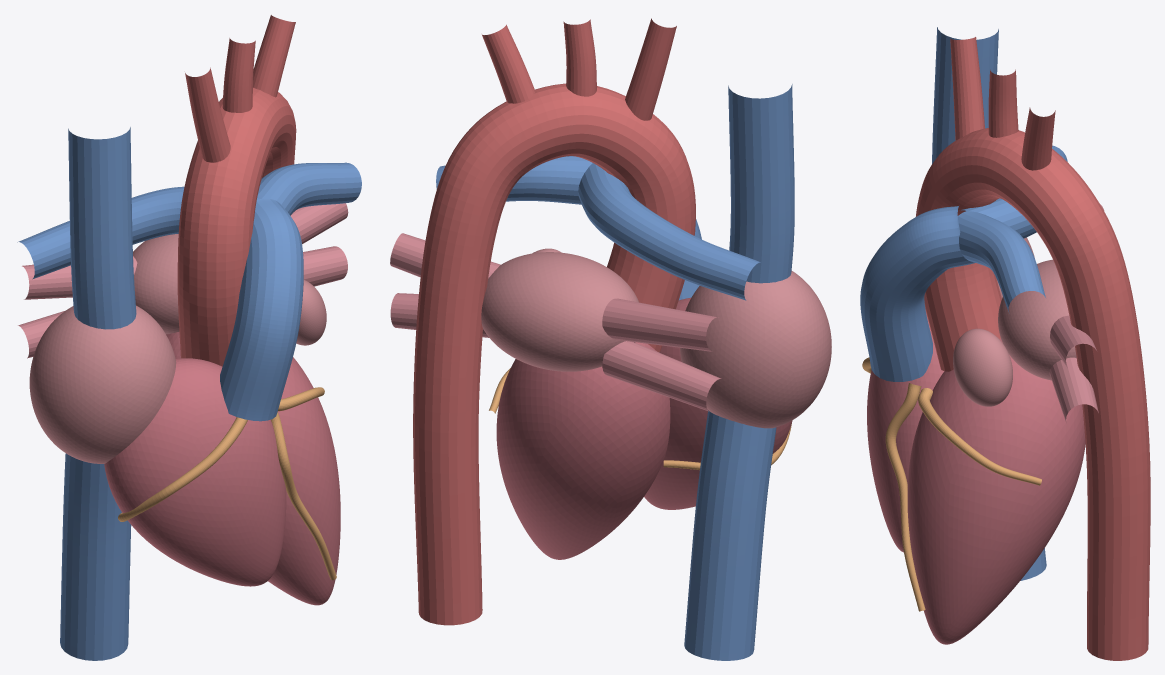
The model's file is hjerte.glb.
The picture shows the model from 3 angles, left to right: view 1: azimuth 30°, elevation 25°; view 2: azimuth 150°, elevation 25°; view 3: azimuth 270°, elevation 25°; orthographic projection. The views are drawn at different scales.
Parts seen in each view (by area): view 1: hoyre_kammer, aorta, hulvener, lungearterie, hoyre_forkammer, venstre_kammer, venstre_forkammer, lungevener, koronararterier; view 2: aorta, hulvener, venstre_kammer, hoyre_forkammer, venstre_forkammer, lungearterie, lungevener, hoyre_kammer, koronararterier; view 3: aorta, venstre_kammer, lungearterie, venstre_forkammer, hoyre_kammer, koronararterier, hulvener, lungevener.
Boxes of the visible parts, x1,y1,x2,y2 form: hoyre_kammer: (104,358,286,586); aorta: (177,15,296,366); hulvener: (60,127,136,660); lungearterie: (17,162,361,421); hoyre_forkammer: (29,305,176,463); venstre_kammer: (166,332,340,605); venstre_forkammer: (133,234,326,345); lungevener: (18,203,348,358); koronararterier: (118,387,336,580); aorta: (413,18,695,625); hulvener: (684,84,794,660); venstre_kammer: (496,342,670,559); hoyre_forkammer: (680,271,831,428); venstre_forkammer: (481,248,638,371); lungearterie: (436,156,760,300); lungevener: (390,233,721,411); hoyre_kammer: (644,297,792,509); koronararterier: (489,368,791,470); aorta: (916,37,1150,660); venstre_kammer: (907,338,1085,644); lungearterie: (860,145,1067,381); venstre_forkammer: (953,259,1076,406); hoyre_kammer: (867,310,944,552); koronararterier: (862,357,1041,611); hulvener: (932,27,1046,580); lungevener: (1049,203,1104,422).
Size of the model in its own units: 8.28 by 12.74 by 5.82.
